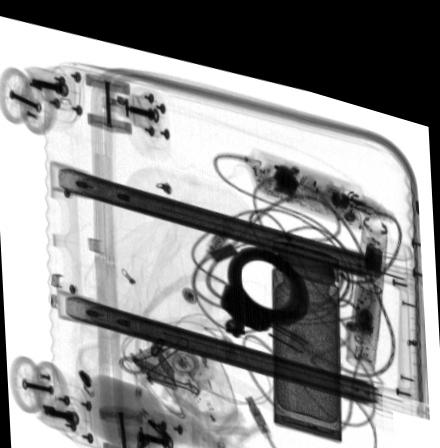Baton: (345, 196, 389, 350)
HandCuffs: (219, 230, 313, 323)
